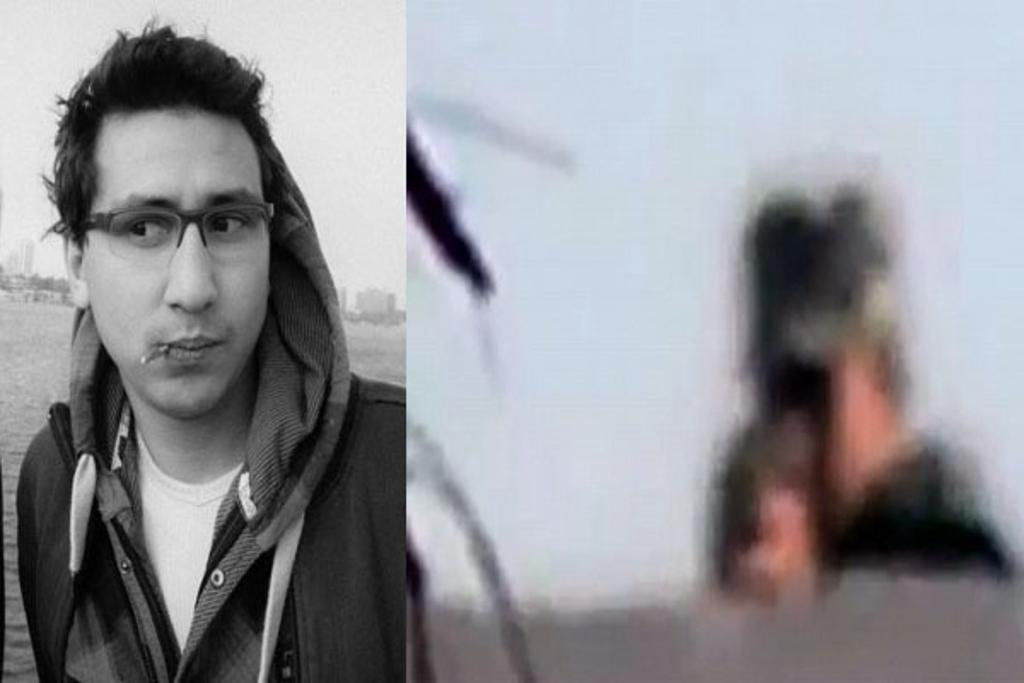face: (80, 118, 272, 420)
